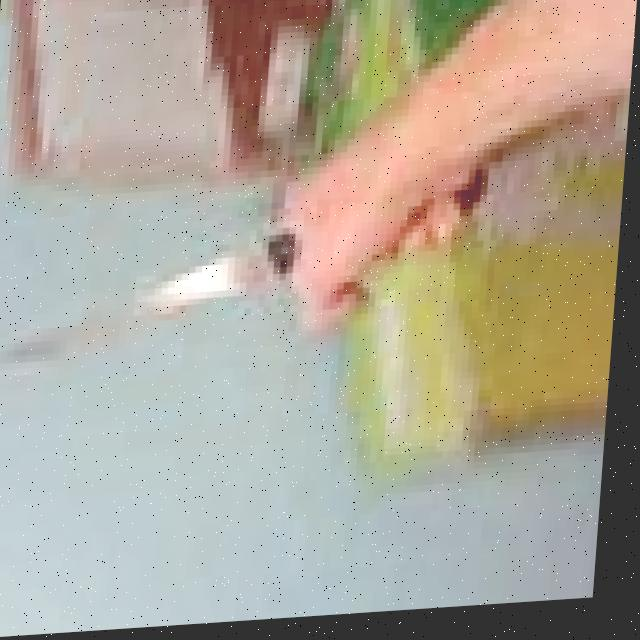knife: (0, 233, 305, 368)
